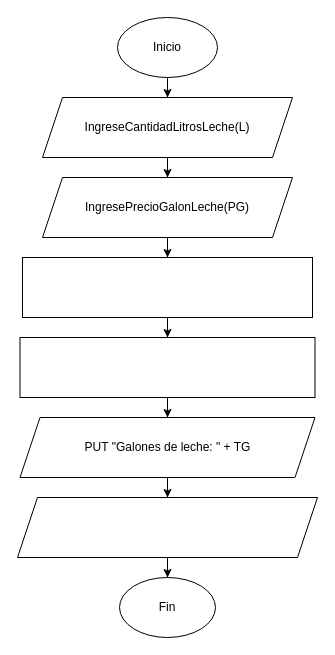
This 335x655 diagram has some shape labels left out. The shapes that lost their labels are listed below. From the top down, each one's box as (x1, y1, x2, y2) in pixels, then its label:
(22, 256, 312, 318): CantidadGalonesProducida(TG)= L / 3.785
(19, 336, 315, 398): GananciaEntregaLeche(GA)= TG * PG
(16, 496, 318, 558): PUT "Valor de Pago: " + GA
